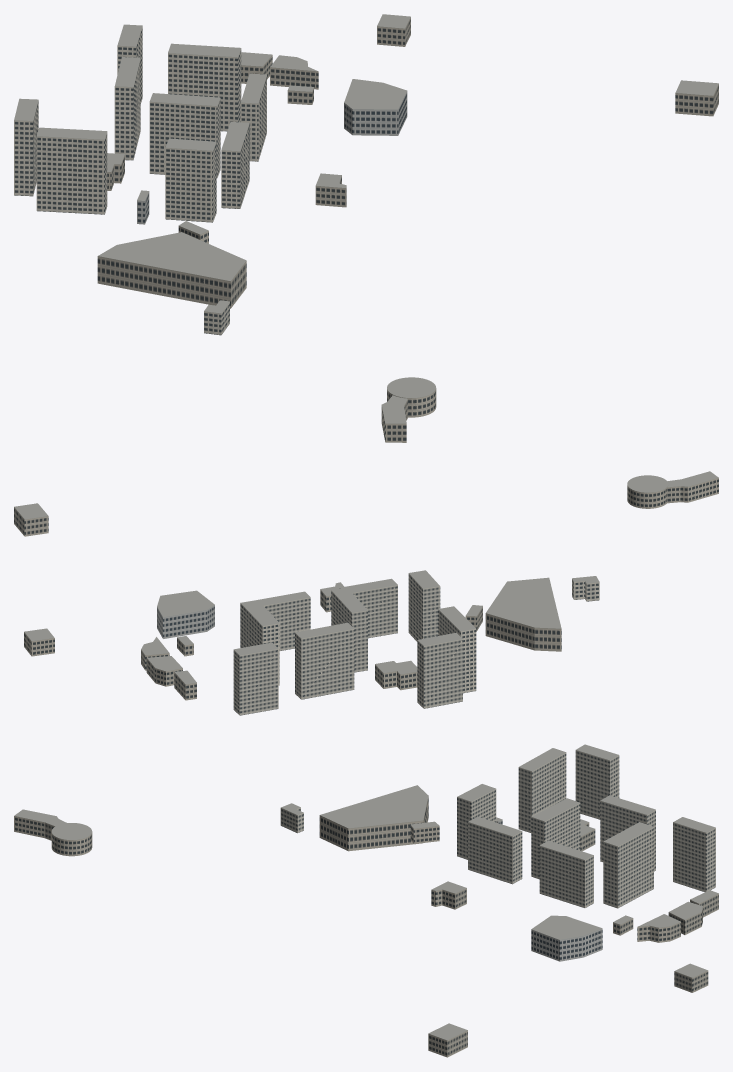
The picture shows the model from 3 angles, top to bottom: view 1: azimuth 30°, elevation 25°; view 2: azimuth 150°, elevation 25°; view 3: azimuth 270°, elevation 25°; orthographic projection. The views are drawn at different scales.
Parts seen in each view (by area): view 1: ctx-apartments, ctx-roof, ctx-other, ctx-commercial; view 2: ctx-apartments, ctx-roof, ctx-other, ctx-commercial; view 3: ctx-apartments, ctx-roof, ctx-other, ctx-commercial.
Boxes of the visible parts, x1,y1,x2,y2 form: ctx-apartments: (14, 26, 266, 335); ctx-roof: (14, 14, 718, 423); ctx-other: (97, 17, 718, 442); ctx-commercial: (137, 91, 407, 224); ctx-apartments: (233, 573, 599, 715); ctx-roof: (14, 471, 718, 684); ctx-other: (14, 478, 718, 700); ctx-commercial: (157, 605, 438, 638); ctx-apartments: (280, 750, 715, 908); ctx-roof: (14, 744, 718, 1040); ctx-other: (14, 796, 718, 1057); ctx-commercial: (496, 820, 602, 961).
Size of the model in its own units: 430 by 55.65 by 496.
4 materials, 3 textured.
